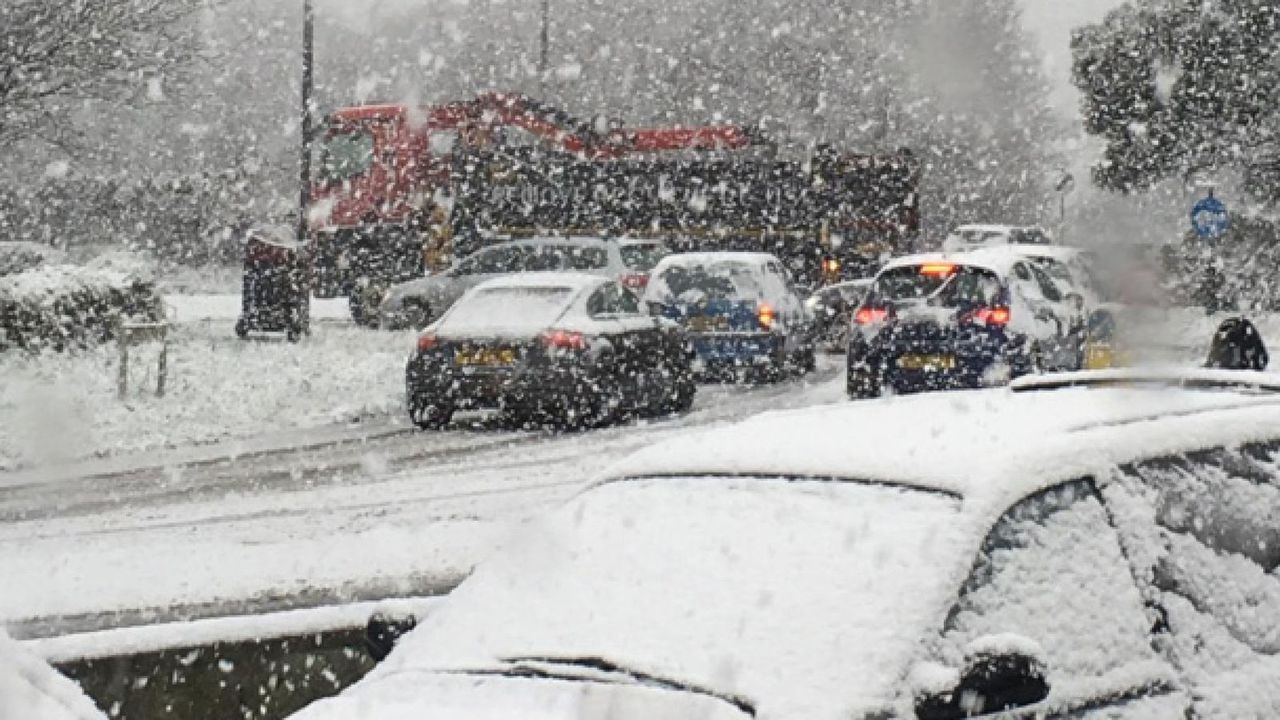car: (92, 367, 1279, 712), (401, 271, 696, 434), (840, 244, 1100, 398), (368, 237, 652, 326), (638, 255, 809, 381)
truck: (302, 104, 793, 305)
